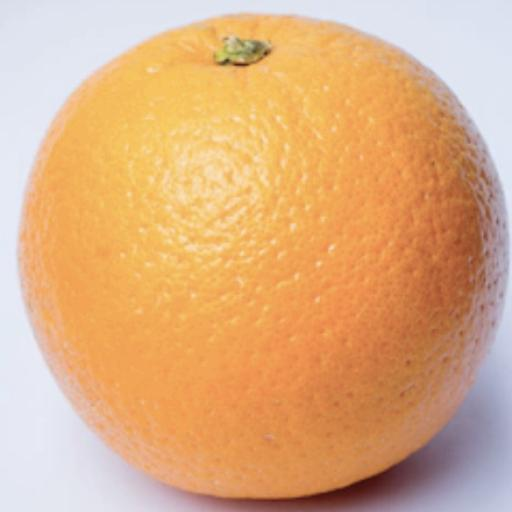orange: (18, 15, 506, 497)
